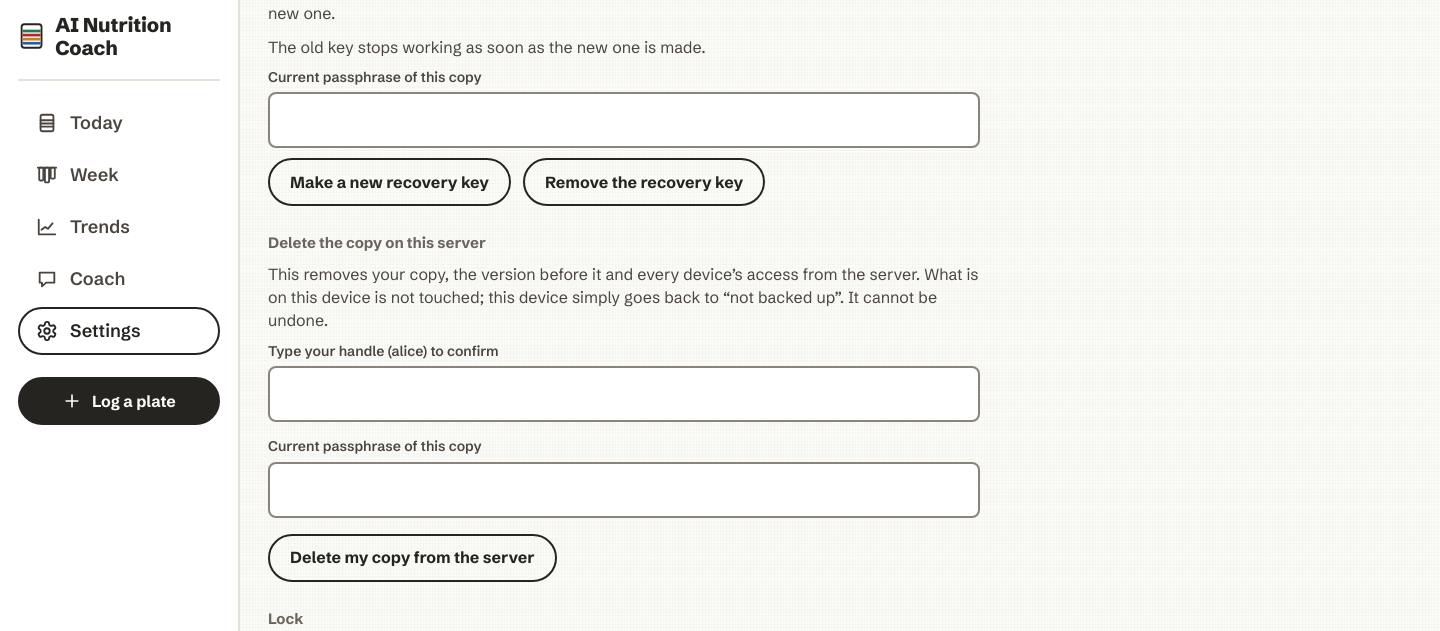
Test: the server copy, connected › deleting the copy needs the handle typed and the passphrase; this device goes back to "not backed up"
(page scrolled)
In the field labelled "Type your handle (alice) to confirm": (624, 394) top-left (270, 368), bottom-right (978, 420), type "someone"
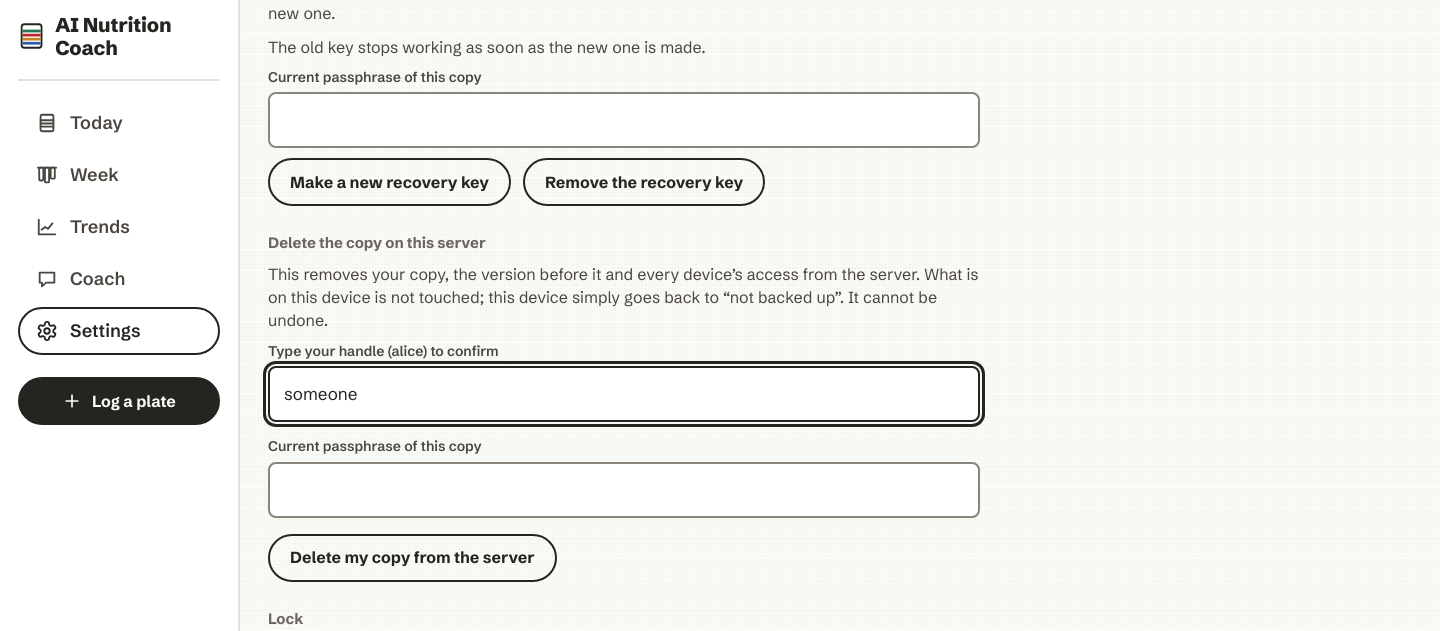
In the password field labelled "Current passphrase of this copy" below "Type your handle (alice) to confirm": (624, 490) top-left (270, 464), bottom-right (978, 516), type "a vault passphrase"
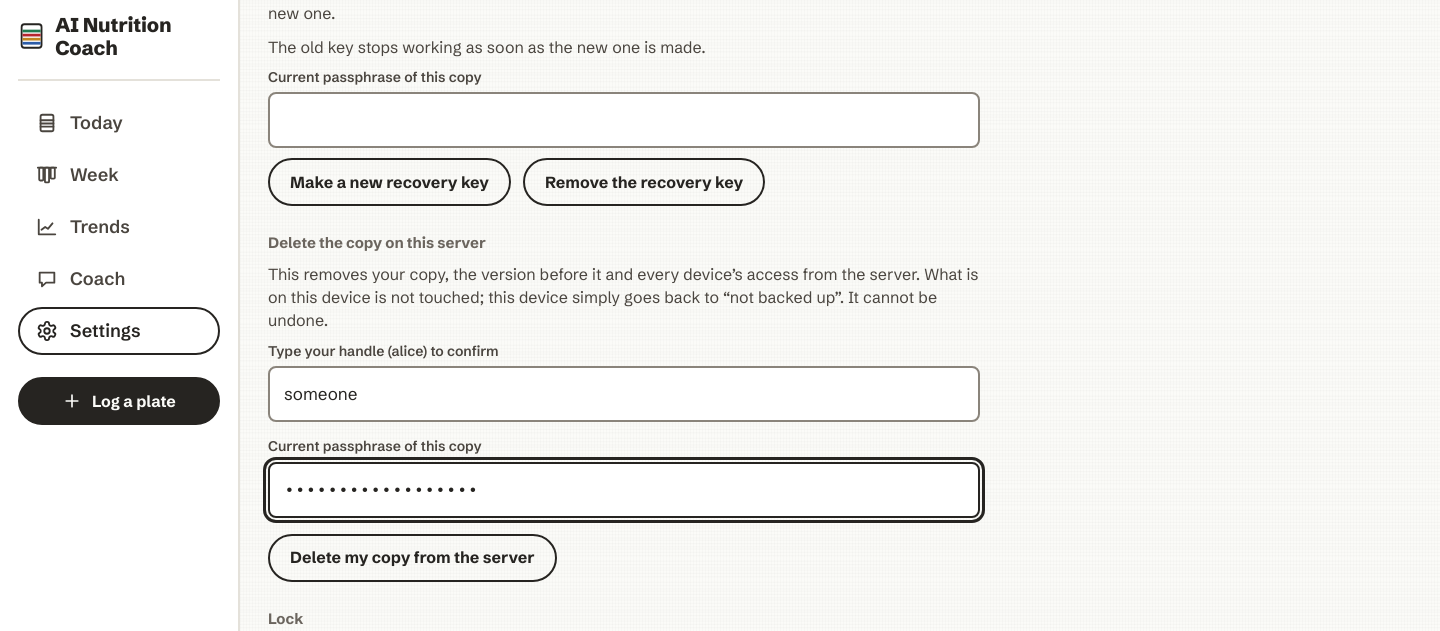
Click the button "Delete my copy from the server": (412, 558) top-left (268, 534), bottom-right (557, 582)
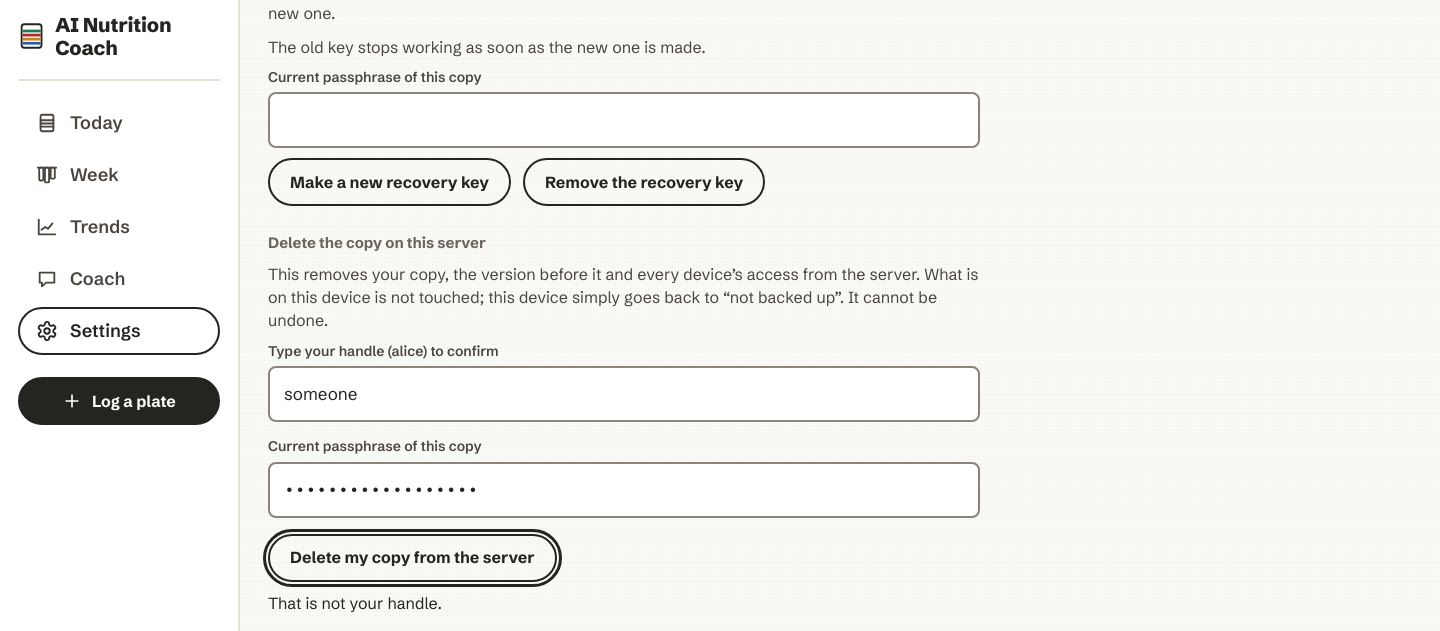
Result: the text "That is not your handle." is shown at top-left (268, 592), bottom-right (442, 612)
Replace the text in the field labelled "Type your handle (alice) to confirm" with "alice": (624, 394) top-left (270, 368), bottom-right (978, 420)
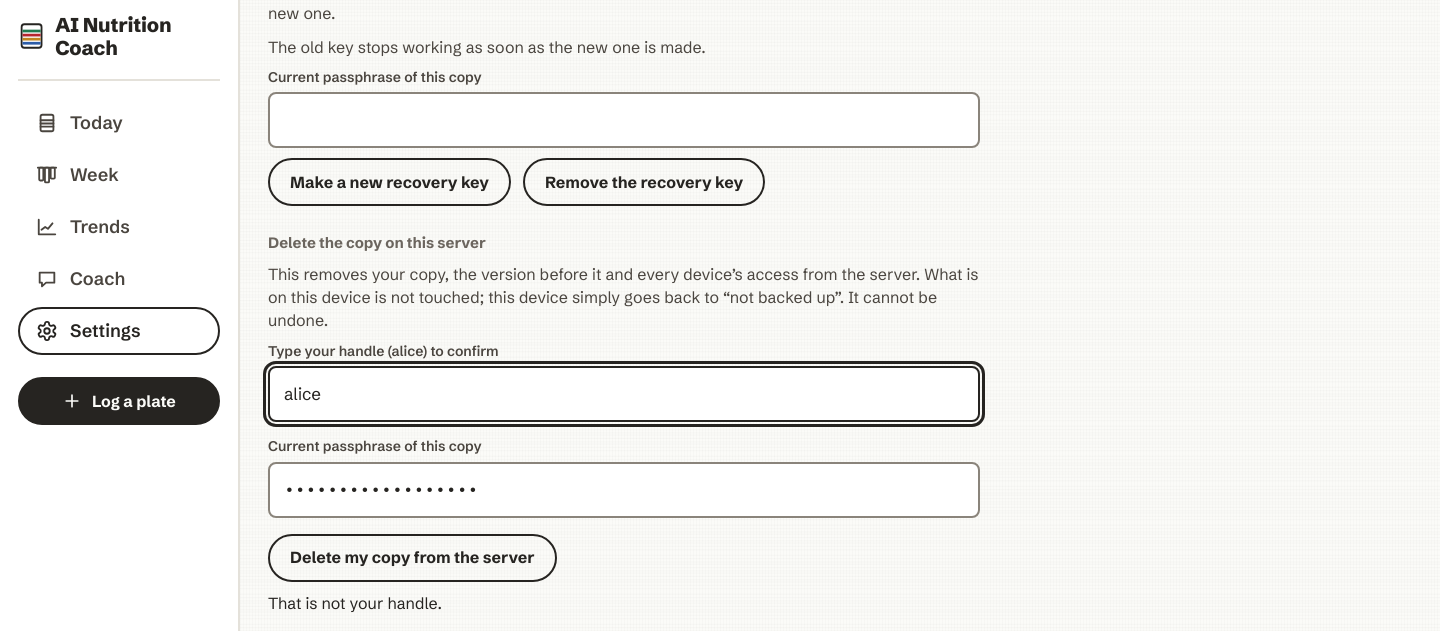
Click the button "Delete my copy from the server": (412, 558) top-left (268, 534), bottom-right (557, 582)
(page scrolled)
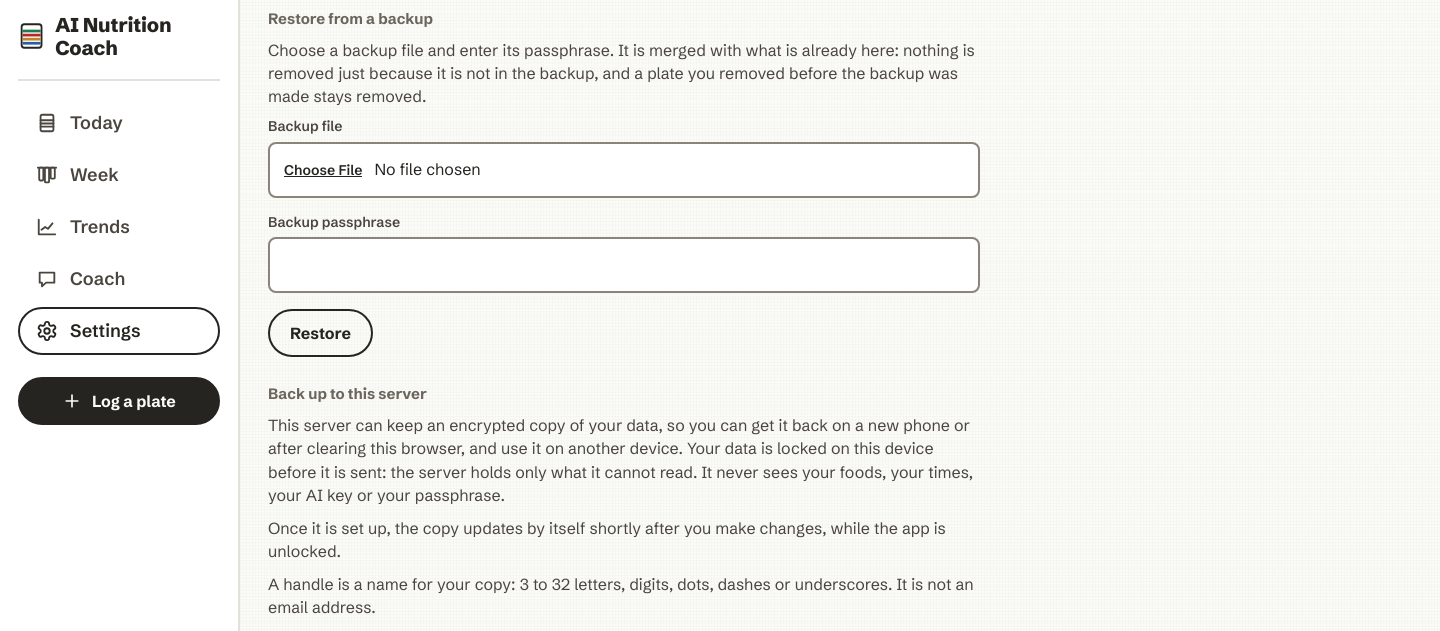
Result: the heading "Back up to this server" is shown at top-left (268, 384), bottom-right (427, 403)
